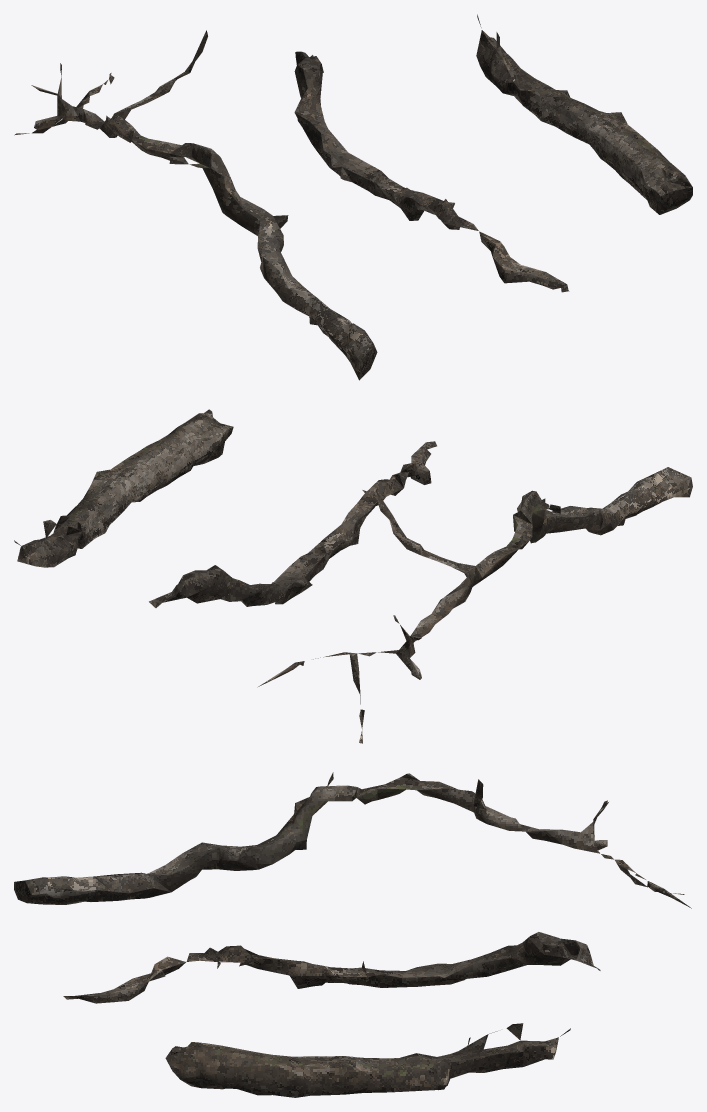
File: dry_branches_medium_01.glb
The picture shows the model from 3 angles, top to bottom: view 1: azimuth 30°, elevation 25°; view 2: azimuth 150°, elevation 25°; view 3: azimuth 270°, elevation 25°; orthographic projection.
Visible parts, largest first — view 1: mesh; view 2: mesh; view 3: mesh.
Boxes of the visible parts, x1,y1,x2,y2 form: mesh: [14, 14, 692, 380]; mesh: [14, 409, 692, 743]; mesh: [14, 772, 691, 1097].
Size of the model in its own units: 1.03 by 0.341 by 1.32.
Materials: 1 (1 with a texture image).
